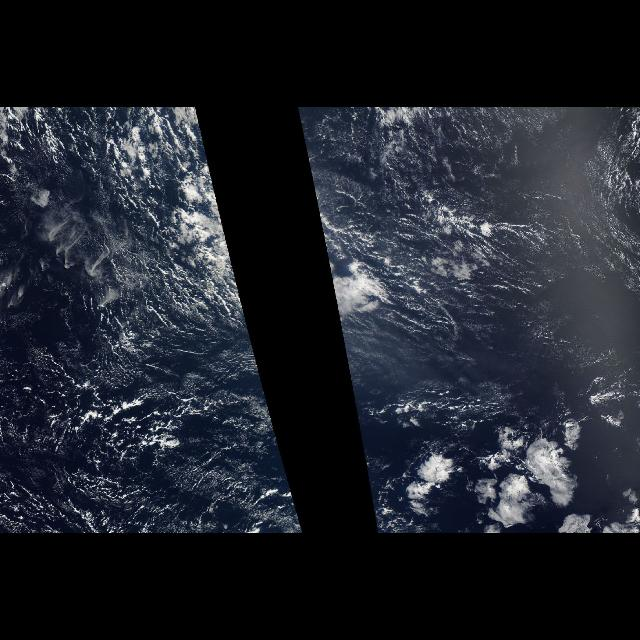Flower: (380, 396, 640, 532)
Gravel: (356, 121, 640, 439), (14, 316, 286, 522)
Sugar: (336, 108, 640, 446)
